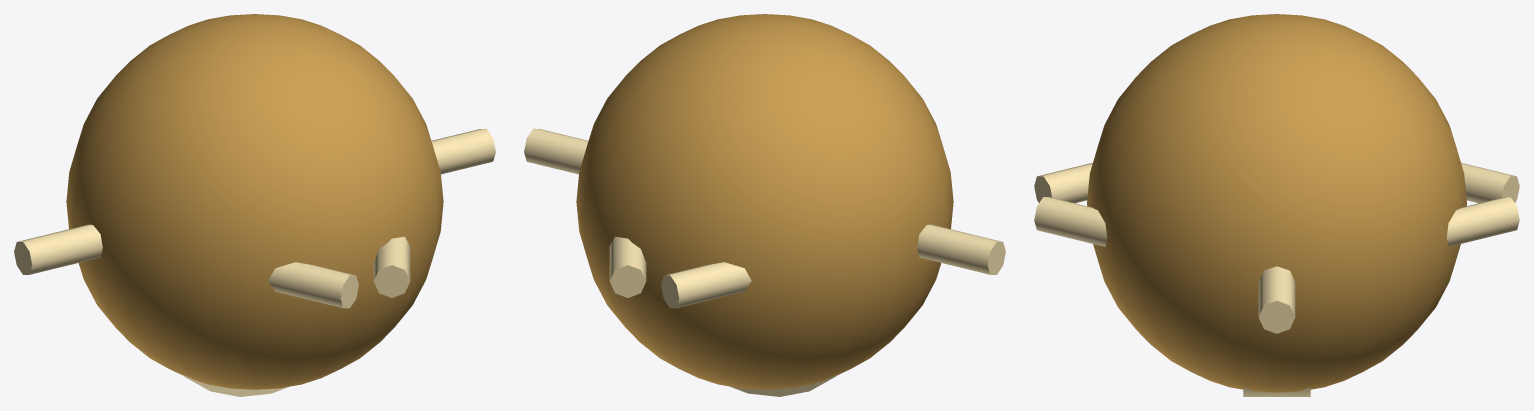
File: flyer-shape-six-spoke-sphere-v1.glb
3 renders of one model, left to right at view 1: azimuth 30°, elevation 25°; view 2: azimuth 150°, elevation 25°; view 3: azimuth 270°, elevation 25°, orthographic.
Visible parts, largest first — view 1: Six-Spoke Sphere; view 2: Six-Spoke Sphere; view 3: Six-Spoke Sphere.
Boxes of the visible parts, box(x1,y1,x2,y2) form: Six-Spoke Sphere: box(14, 14, 495, 396); Six-Spoke Sphere: box(524, 14, 1005, 396); Six-Spoke Sphere: box(1034, 14, 1519, 396).
Bounding box in the file's own units: 1.76 × 1.27 × 1.58.
